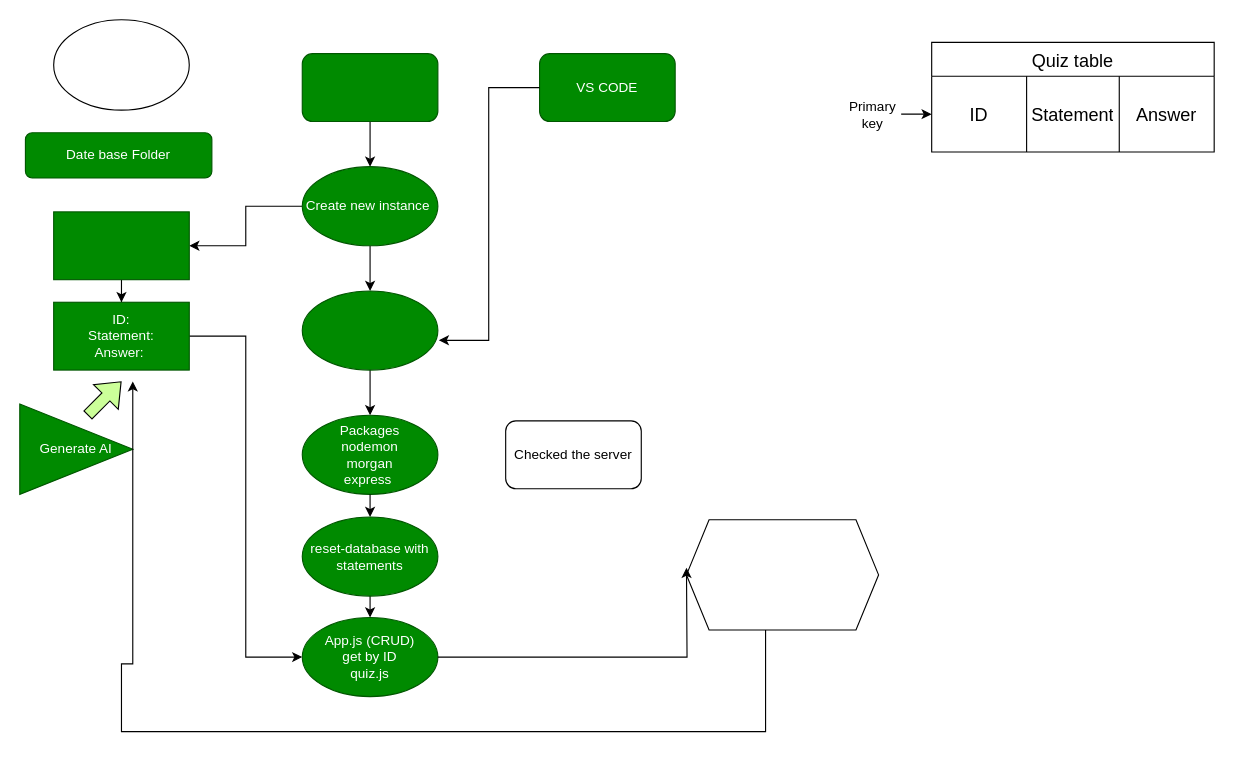
This 1234x760 diagram has some shape labels left out. Here are the shapes that lost their labels. From the top down, the centre of each, then its label:
At point (121, 64): "Sprint 1".
At point (369, 87): "Database SQL".
At point (121, 245): "Entity Relationship Diagram".
At point (369, 330): "Create .env index.js gitignore".
At point (782, 574): "Create Drop Reset Populate (Seed)".
